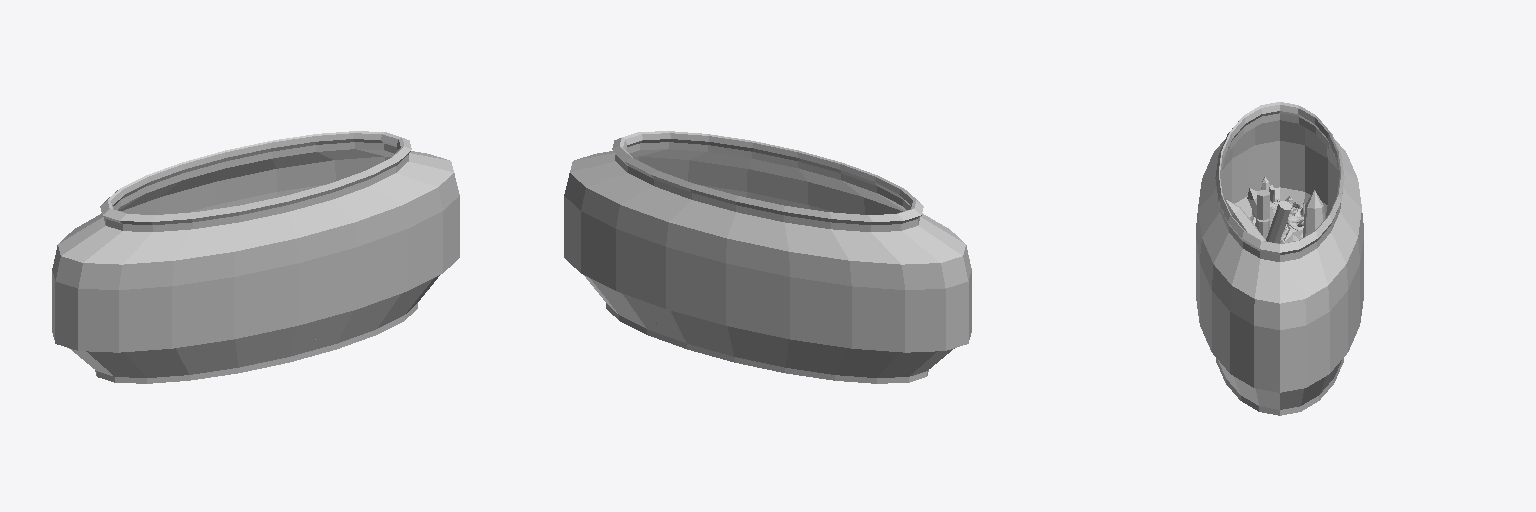
Rendered from Full Tank.obj.
3 renders of one model, left to right at view 1: azimuth 30°, elevation 25°; view 2: azimuth 150°, elevation 25°; view 3: azimuth 270°, elevation 25°, orthographic.
Parts seen in each view (by area): view 1: pCylinder1; view 2: pCylinder1; view 3: pCylinder1, quad_full_gem:pCylinder3, Single_Gem:pCone2.
Part boxes in pixels (x1,y1,x2,y2): pCylinder1: (52, 131, 459, 383); pCylinder1: (564, 131, 971, 383); pCylinder1: (1196, 102, 1363, 415); quad_full_gem:pCylinder3: (1225, 188, 1292, 243); Single_Gem:pCone2: (1302, 190, 1324, 237).
Size of the model in its own units: 19.08 by 7.54 by 6.95.